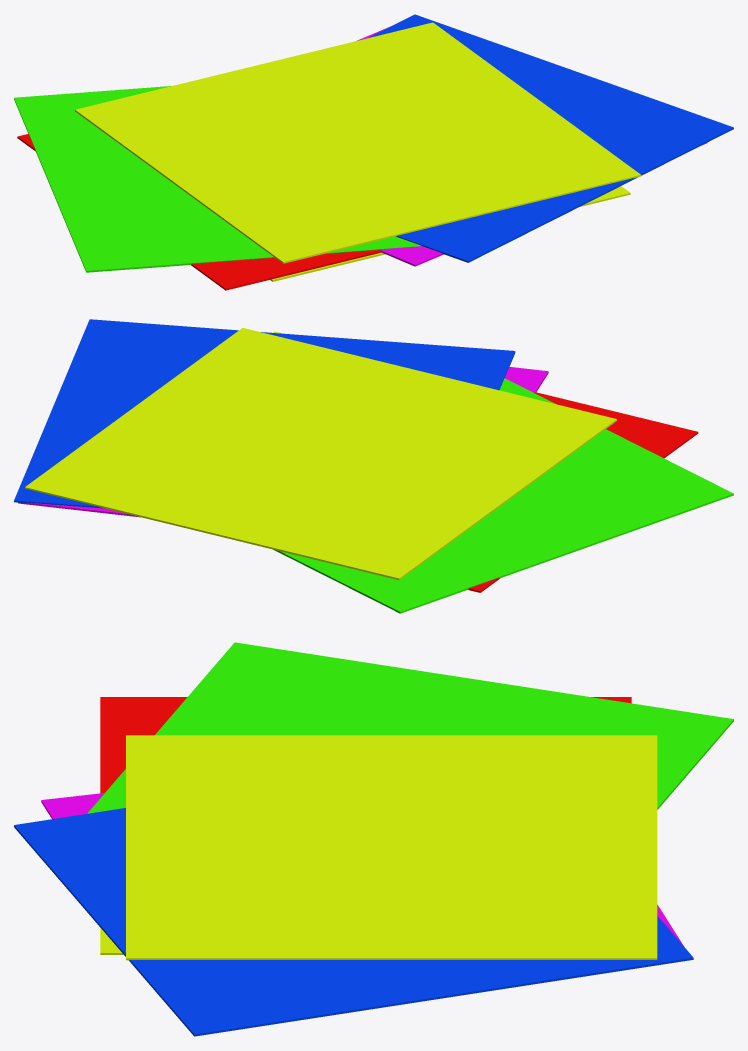
Rendered from Sticky notes.obj.
3 renders of one model, top to bottom at view 1: azimuth 30°, elevation 25°; view 2: azimuth 150°, elevation 25°; view 3: azimuth 270°, elevation 25°, orthographic. The views are drawn at different scales.
Parts seen in each view (by area): view 1: Box010, Box008, Box009, Box012, Box007, Box011; view 2: Box010, Box008, Box009, Box012, Box007; view 3: Box010, Box008, Box009, Box012, Box007.
Part boxes in pixels (left/top/right/bottom): Box010: left=75, top=22, right=641, bottom=263; Box008: left=14, top=86, right=421, bottom=272; Box009: left=368, top=14, right=733, bottom=262; Box012: left=17, top=134, right=381, bottom=290; Box007: left=357, top=26, right=706, bottom=266; Box011: left=270, top=186, right=630, bottom=281; Box010: left=25, top=328, right=616, bottom=580; Box008: left=273, top=378, right=733, bottom=613; Box009: left=14, top=319, right=515, bottom=508; Box012: left=468, top=392, right=698, bottom=592; Box007: left=18, top=367, right=548, bottom=517; Box010: left=126, top=735, right=657, bottom=960; Box008: left=87, top=642, right=733, bottom=813; Box009: left=14, top=808, right=693, bottom=1036; Box012: left=100, top=697, right=631, bottom=793; Box007: left=41, top=793, right=683, bottom=945.
Bounding box in the file's own units: 914410 × 10361 × 707320.
